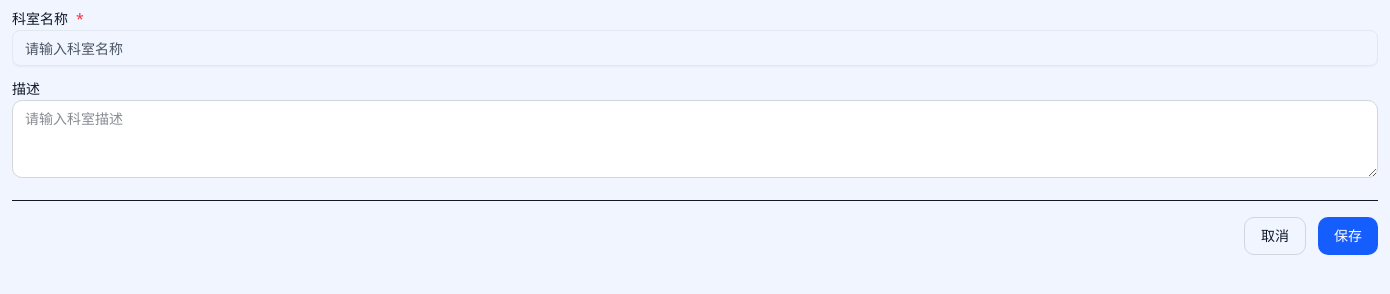
Test: DepartmentForm › clears name error when user types after validation
Click the button "保存" at (1348, 236), box [1318, 217, 1378, 255]
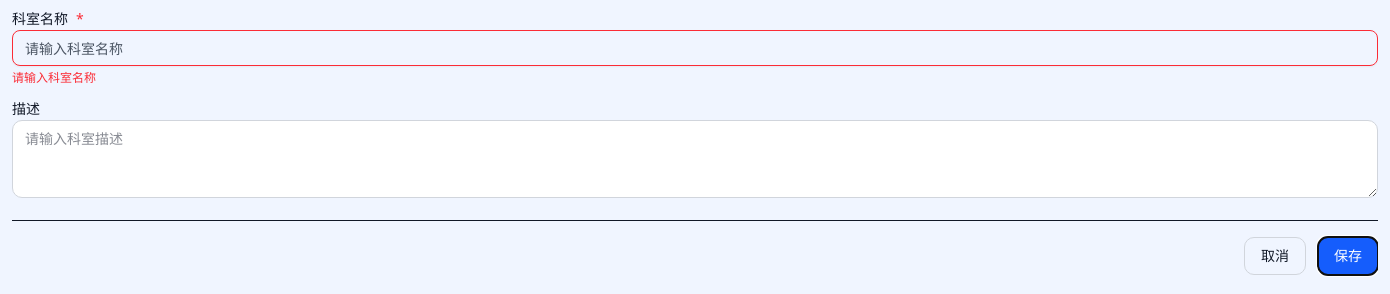
Expected: the text "请输入科室名称" is shown, [12, 69, 96, 86]
Type "儿科" into the field with placeholder "请输入科室名称" at (695, 48), box [12, 30, 1378, 66]
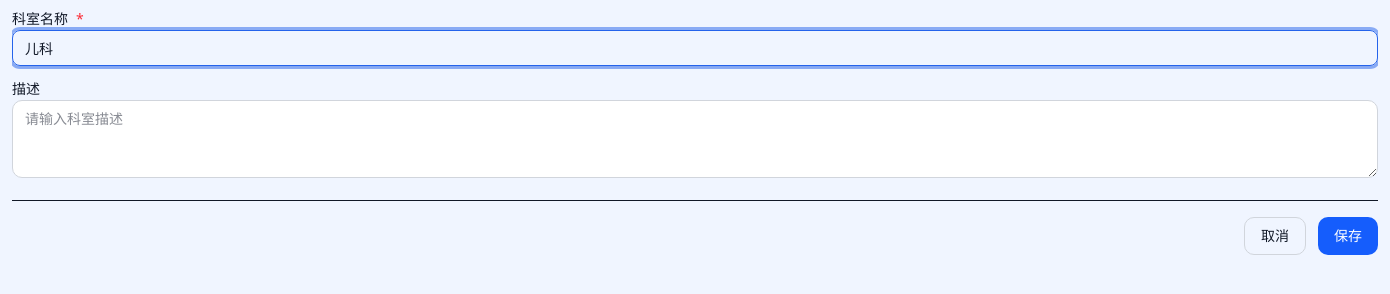
Expected: the text "请输入科室名称" is gone
